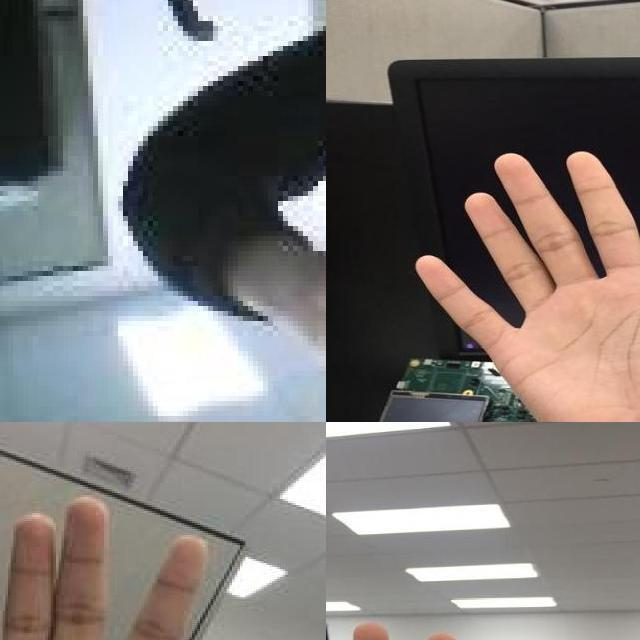hand: (414, 146, 640, 422), (0, 497, 285, 640)
